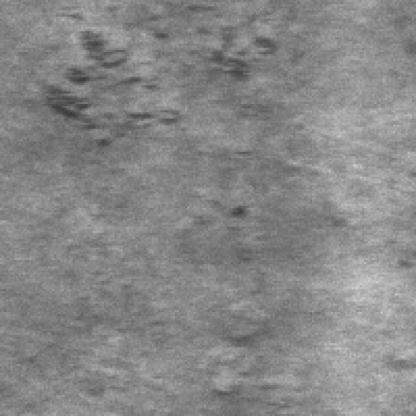rolled-in_scale: (50, 9, 274, 141)
